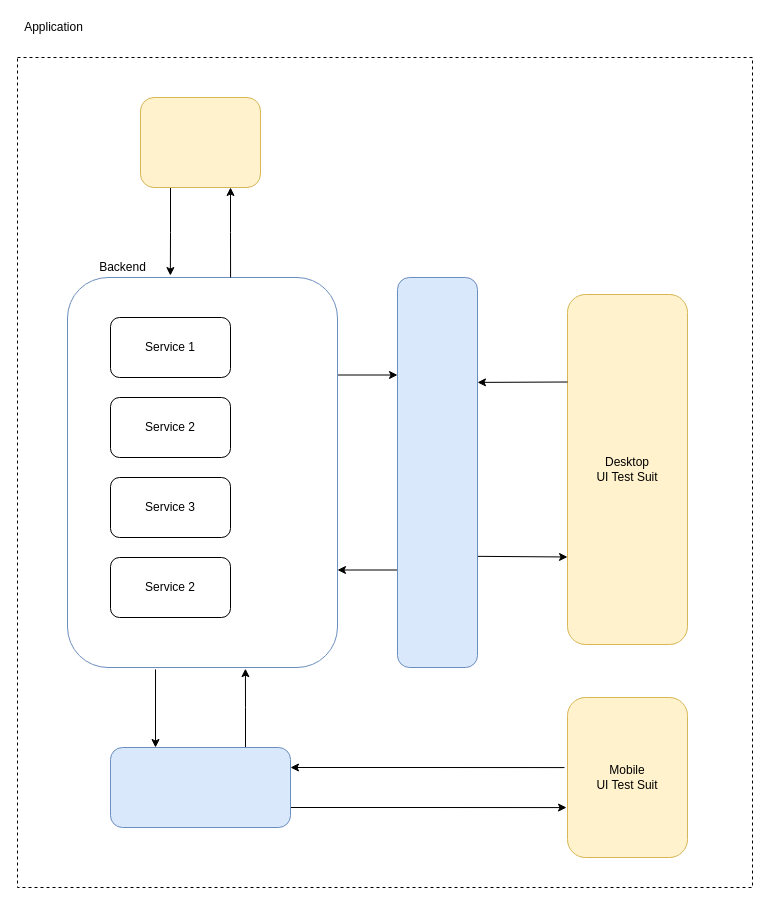
The diagram is 770 pixels wide and 905 high, and some of its shapes have lost their labels. The shapes that lost their labels are listed below. From the top down, each one's centre as x and y in pixels, then its label:
(x=200, y=142): Backend Test Suit
(x=437, y=472): Desktop UI
(x=200, y=787): Mobile UI
